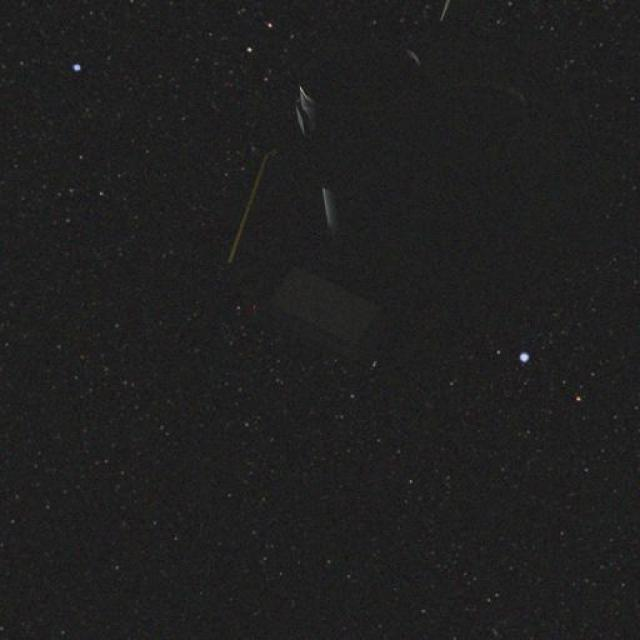cheops: (252, 0, 578, 338)
